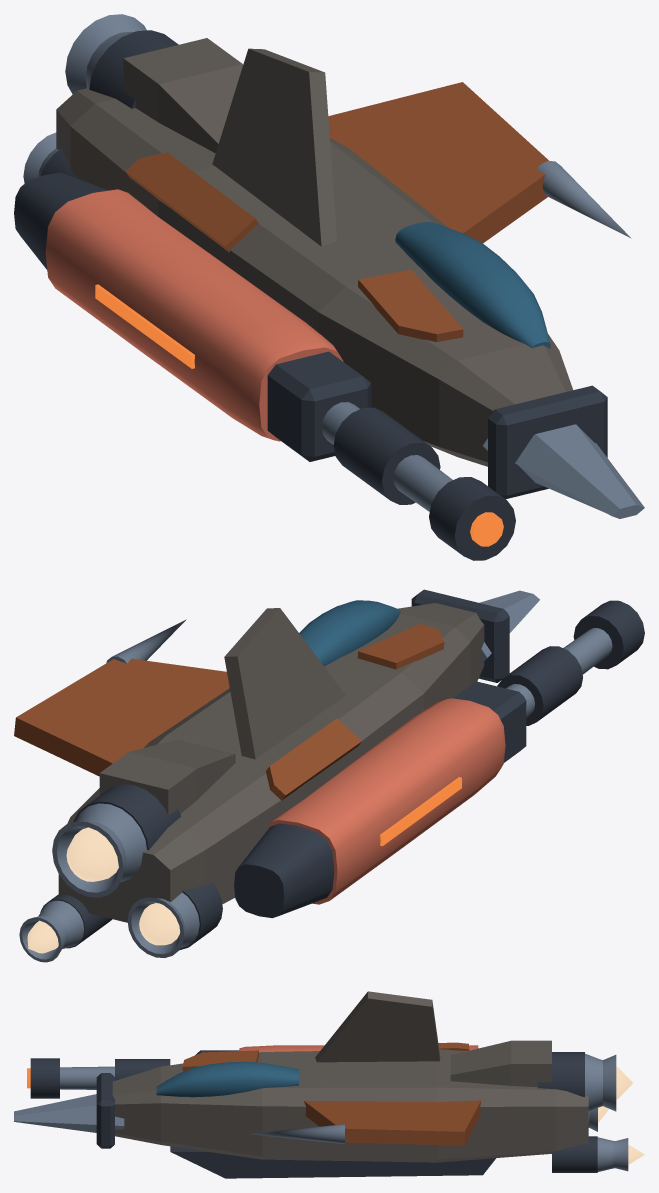
File: scrap_raider.glb
3 views of the same model, one above another, from view 1: azimuth 30°, elevation 25°; view 2: azimuth 150°, elevation 25°; view 3: azimuth 270°, elevation 25° (orthographic). The views are drawn at different scales.
Visible parts, largest first — view 1: scrap_raider; view 2: scrap_raider; view 3: scrap_raider.
Boxes of the visible parts, bbox=[...] form: scrap_raider: bbox=[14, 14, 644, 560]; scrap_raider: bbox=[14, 589, 644, 962]; scrap_raider: bbox=[14, 991, 644, 1178].
Size of the model in its own units: 2.94 by 2.06 by 6.86.
